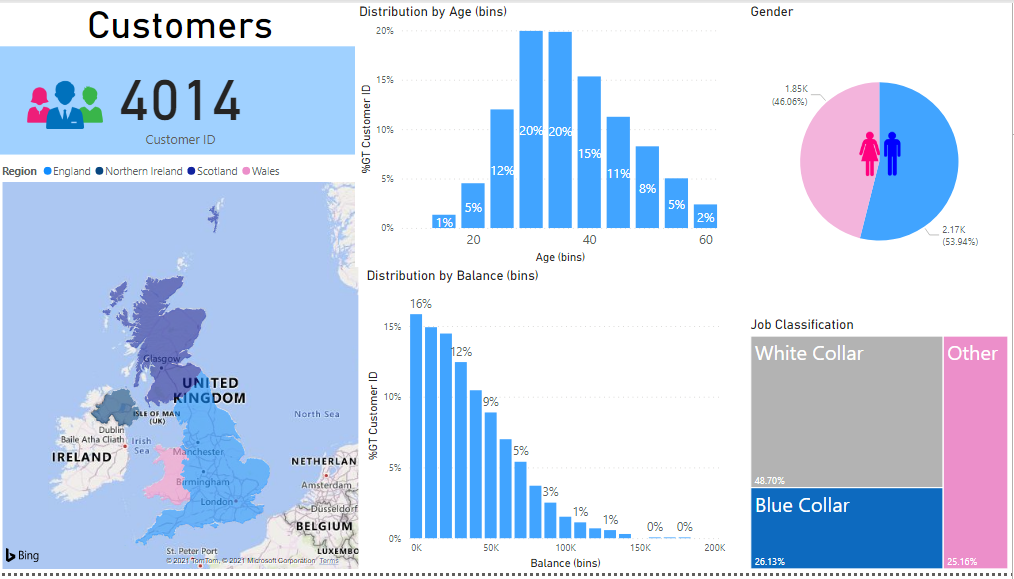

What the dashboard file says about the page in this screenshot:
{"tool":"powerbi","page":{"name":"Dashboard","canvas":[1280,720],"ordinal":5},"visuals":[{"type":"filledMap","fields":{"Category":["P6-UK-Bank-Customers.Region"],"Series":["P6-UK-Bank-Customers.Region"]},"box":[0,191.2,460.1,528.3],"z":0},{"type":"card","title":"Customers","fields":{"Values":["CountNonNull(P6-UK-Bank-Customers.Customer ID)"]},"box":[0,0,460.1,191.2],"z":1000},{"type":"pieChart","title":"Gender","fields":{"Category":["P6-UK-Bank-Customers.Gender"],"Y":["CountNonNull(P6-UK-Bank-Customers.Customer ID)"]},"box":[944.9,0,335.1,380.6],"z":2000},{"type":"columnChart","title":"Distribution by Age (bins)","fields":{"Category":["P6-UK-Bank-Customers.Age (bins)"],"Y":["CountNonNull(P6-UK-Bank-Customers.Customer ID)"]},"box":[450.7,0,463.9,333.3],"z":3000},{"type":"clusteredColumnChart","title":"Distribution by Balance (bins)","fields":{"Category":["P6-UK-Bank-Customers.Balance (bins)"],"Y":["CountNonNull(P6-UK-Bank-Customers.Customer ID)"]},"box":[460.1,333.3,463.9,386.3],"z":4000},{"type":"treemap","title":"Job Classification","fields":{"Values":["CountNonNull(P6-UK-Bank-Customers.Customer ID)"],"Group":["P6-UK-Bank-Customers.Job Classification"]},"box":[944.9,395.7,335.1,323.8],"z":5000},{"type":"image","box":[1056.6,157.2,113.6,66.3],"z":6000},{"type":"image","box":[17,13.3,134.4,234.8],"z":7000}]}

Visuals, with their boxes in screenshot pixels (x1, y1, x2, y2), scaled from the page's 1280x720 canvas onto the 1014x579 screenshot:
filledMap - P6-UK-Bank-Customers.Region x P6-UK-Bank-Customers.Region: region(0, 154, 364, 578)
"Customers" card: region(0, 0, 364, 154)
"Gender" pieChart: region(749, 0, 1013, 306)
"Distribution by Age (bins)" columnChart: region(357, 0, 725, 268)
"Distribution by Balance (bins)" clusteredColumnChart: region(364, 268, 732, 578)
"Job Classification" treemap: region(749, 318, 1013, 578)
image: region(837, 126, 927, 180)
image: region(13, 11, 120, 200)
